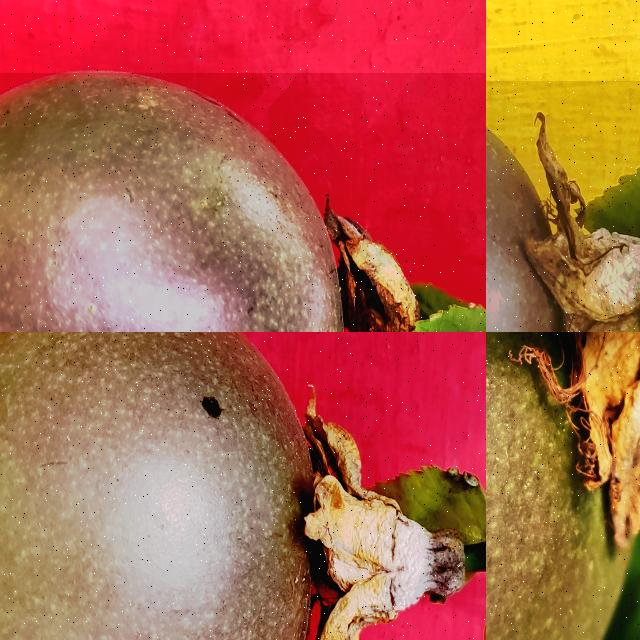Estado-2: (0, 73, 486, 332)
Estado-3: (486, 332, 640, 640)
Estado-5: (486, 131, 640, 332)
